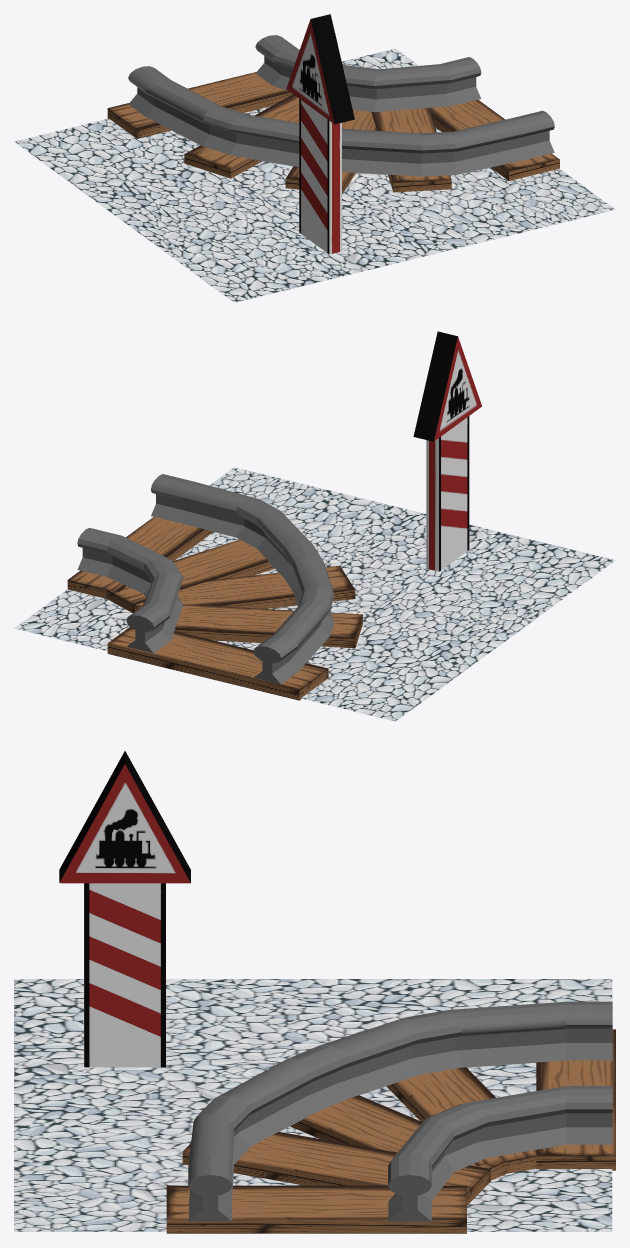
File: railQuiTourneWithBackGroundAndPanneau.fbx
3 renders of one model, top to bottom at view 1: azimuth 30°, elevation 25°; view 2: azimuth 150°, elevation 25°; view 3: azimuth 270°, elevation 25°, orthographic. The views are drawn at different scales.
Visible parts, largest first — view 1: Plane, railExterieur, Cube, railIntérieur, planche.001, planche, planche.002, planche.004, planche.003; view 2: Plane, railExterieur, Cube, railIntérieur, planche.001, planche.004, planche.003, planche.002, planche; view 3: Plane, railExterieur, Cube, railIntérieur, planche, planche.002, planche.003, planche.001, planche.004.
Boxes of the visible parts, box(x1,y1,x2,y2) form: Plane: box(14, 48, 615, 302); railExterieur: box(128, 66, 554, 176); Cube: box(286, 14, 354, 254); railIntérieur: box(255, 35, 481, 112); planche.001: box(107, 72, 292, 138); planche: box(424, 99, 559, 180); planche.002: box(371, 108, 451, 192); planche.004: box(184, 94, 299, 178); planche.003: box(285, 110, 377, 194); Plane: box(14, 467, 615, 721); railExterieur: box(150, 474, 334, 684); Cube: box(413, 331, 481, 571); railIntérieur: box(77, 528, 183, 653); planche.001: box(107, 627, 328, 700); planche.004: box(142, 602, 362, 648); planche.003: box(135, 565, 355, 610); planche.002: box(106, 539, 274, 612); planche: box(67, 516, 213, 598); Plane: box(14, 979, 612, 1231); railExterieur: box(188, 1001, 612, 1221); Cube: box(59, 751, 190, 1067); railIntérieur: box(388, 1086, 612, 1221); planche: box(166, 1185, 466, 1233); planche.002: box(182, 1132, 490, 1205); planche.003: box(290, 1095, 507, 1180); planche.001: box(536, 1029, 615, 1170); planche.004: box(386, 1067, 536, 1173).
Size of the model in its own units: 3025 by 1759 by 3018.
